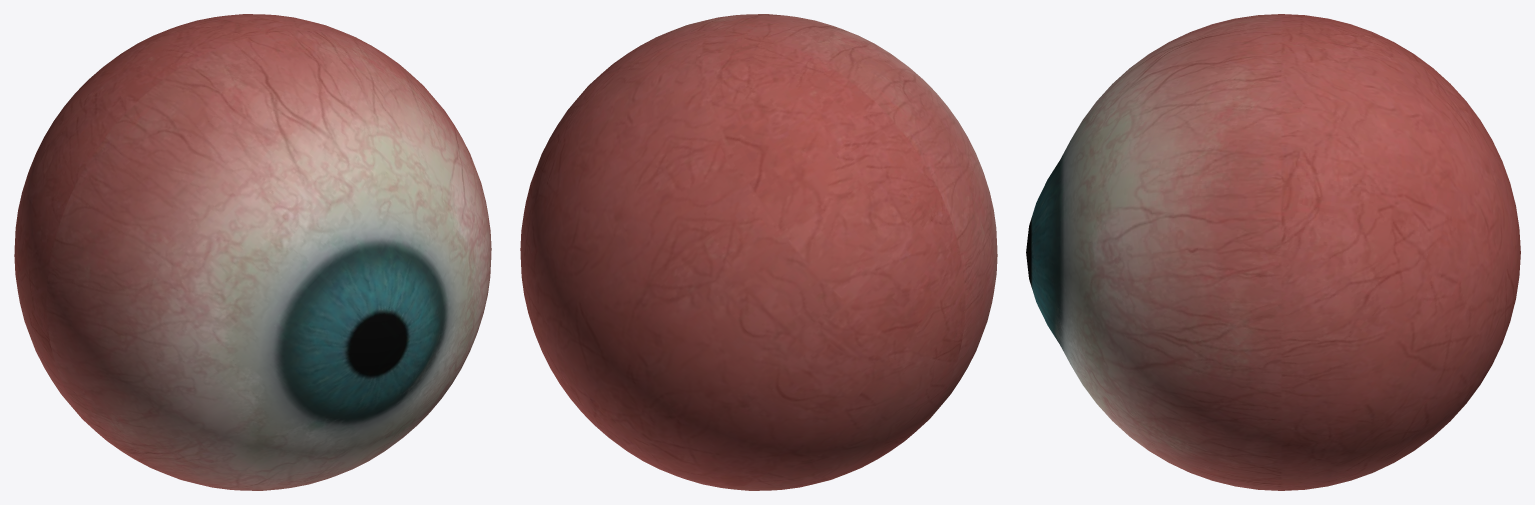
File: eye_blue.glb
3 renders of one model, left to right at view 1: azimuth 30°, elevation 25°; view 2: azimuth 150°, elevation 25°; view 3: azimuth 270°, elevation 25°, orthographic.
Visible parts, largest first — view 1: Sphere_002; view 2: Sphere_002; view 3: Sphere_002.
Boxes of the visible parts, left/top/right/bottom form: Sphere_002: left=14, top=14, right=491, bottom=490; Sphere_002: left=520, top=14, right=997, bottom=490; Sphere_002: left=1026, top=14, right=1520, bottom=490.
Bounding box in the file's own units: 0.1245 × 0.1245 × 0.1291.
Materials: 1 (1 with a texture image).
